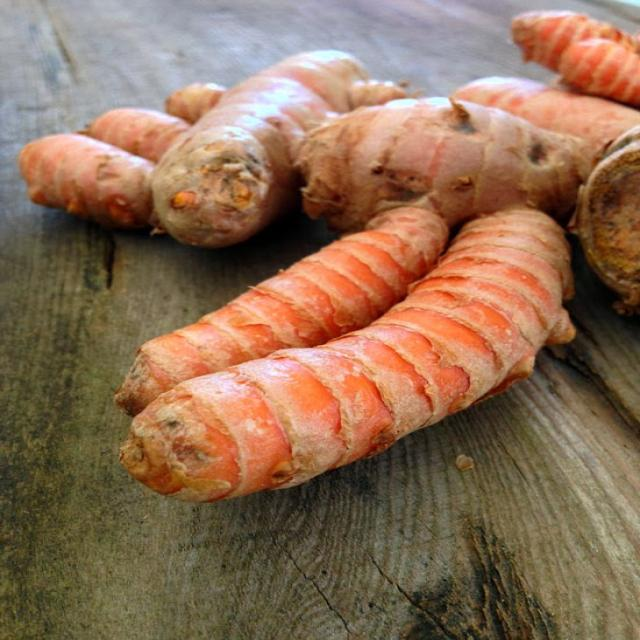turmeric: (79, 196, 638, 504), (18, 39, 343, 241), (307, 36, 640, 224), (502, 0, 640, 98)
